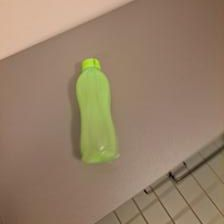bottle: (65, 57, 123, 165)
